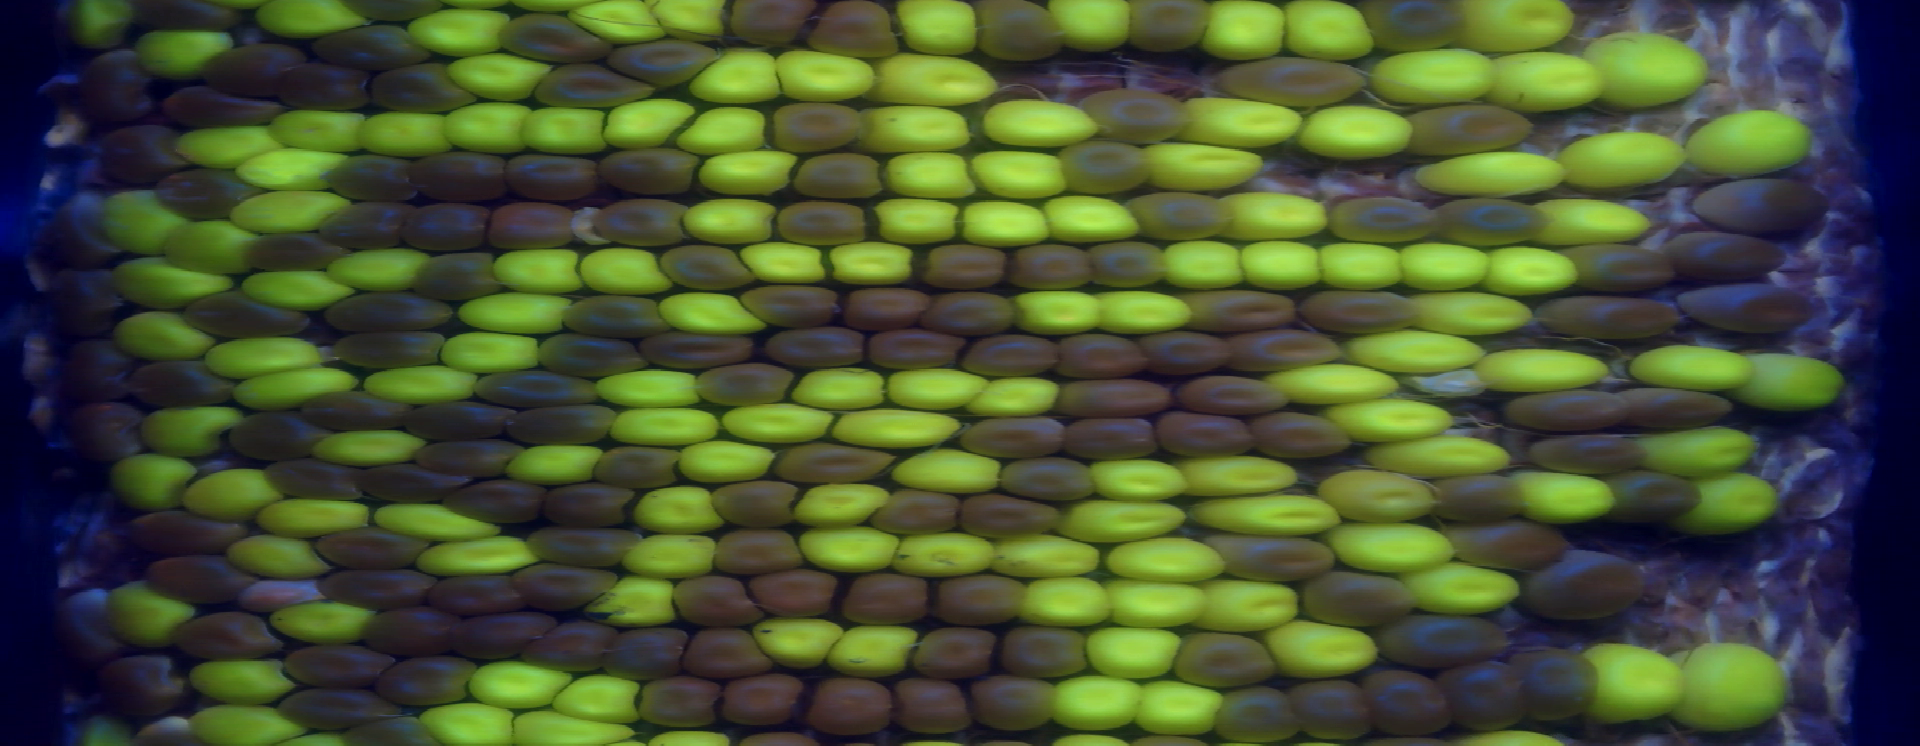fluorescent: (1664, 639, 1793, 737), (1679, 104, 1824, 181), (1587, 28, 1714, 104), (864, 47, 1007, 110), (1575, 644, 1691, 719), (1356, 48, 1502, 107), (1189, 573, 1314, 642), (1559, 131, 1695, 192), (1487, 48, 1608, 116), (100, 579, 203, 652), (1734, 352, 1847, 416), (1393, 562, 1520, 620), (1262, 617, 1382, 677), (965, 145, 1078, 208), (1276, 1, 1389, 62), (1412, 154, 1567, 198), (1329, 521, 1453, 575), (1351, 330, 1495, 375), (1462, 1, 1586, 54), (1194, 495, 1344, 538), (1473, 345, 1611, 392), (1354, 432, 1509, 474), (129, 24, 242, 81), (1142, 140, 1266, 191), (691, 49, 792, 111), (1302, 108, 1413, 164), (751, 611, 851, 674), (451, 289, 589, 334), (104, 254, 235, 301), (1534, 197, 1658, 247), (1633, 344, 1756, 394), (197, 326, 326, 374), (1509, 472, 1622, 526), (266, 594, 380, 648), (1411, 285, 1536, 334), (184, 462, 282, 524), (369, 496, 503, 541), (411, 9, 527, 61), (1682, 472, 1779, 534), (1194, 1, 1294, 61), (800, 521, 909, 576), (1188, 96, 1307, 146), (222, 184, 351, 229), (444, 47, 549, 103), (770, 48, 874, 104), (1098, 576, 1212, 627), (833, 404, 961, 450), (984, 532, 1109, 578), (984, 99, 1100, 149), (1269, 363, 1400, 407), (227, 527, 334, 579), (486, 243, 589, 298), (1084, 624, 1184, 680), (1131, 681, 1232, 737), (831, 619, 918, 684), (891, 446, 1007, 495), (595, 96, 699, 149), (324, 244, 436, 294), (189, 655, 300, 706), (251, 491, 381, 534), (347, 107, 449, 160), (855, 107, 973, 153), (1321, 472, 1434, 521), (883, 1, 987, 54), (107, 306, 216, 356), (140, 405, 249, 456), (1633, 431, 1761, 474), (1064, 499, 1191, 541), (1484, 244, 1584, 298), (238, 266, 364, 309), (1223, 191, 1333, 240), (313, 424, 432, 469), (623, 534, 725, 587), (1104, 537, 1226, 581), (179, 703, 311, 744), (1051, 673, 1141, 731), (1330, 394, 1453, 437), (438, 326, 544, 376), (516, 100, 616, 153), (655, 292, 771, 337), (680, 196, 790, 244), (251, 1, 373, 44), (553, 670, 647, 726), (636, 483, 729, 539), (1021, 575, 1120, 627), (588, 571, 678, 628), (225, 369, 362, 407), (1393, 241, 1496, 292), (1047, 1, 1136, 59), (887, 149, 980, 205), (891, 529, 996, 578), (100, 191, 184, 252), (1171, 456, 1300, 495), (1093, 289, 1196, 338), (1239, 240, 1329, 296), (1044, 195, 1150, 243), (718, 399, 831, 443), (169, 121, 283, 164), (1011, 289, 1111, 338), (680, 107, 781, 154), (365, 364, 481, 405), (264, 105, 371, 151), (680, 439, 780, 486), (104, 454, 195, 507), (879, 366, 993, 408), (468, 659, 569, 706), (1156, 243, 1251, 292), (443, 99, 531, 152), (699, 148, 801, 194), (965, 196, 1054, 247), (818, 244, 928, 285), (616, 404, 716, 450), (598, 371, 716, 409), (1318, 239, 1412, 287), (514, 708, 632, 746), (1089, 461, 1191, 503), (241, 152, 347, 194), (160, 228, 266, 269), (574, 1, 662, 48), (872, 198, 961, 244), (737, 240, 829, 284), (418, 541, 535, 576), (421, 702, 512, 746), (583, 247, 669, 294), (965, 372, 1060, 414), (796, 484, 890, 526), (58, 1, 140, 49), (500, 443, 604, 480), (648, 1, 733, 45), (795, 371, 887, 405), (80, 718, 140, 746)
nonfluorescent: (1206, 53, 1373, 110), (1690, 171, 1836, 234), (1518, 548, 1644, 615), (1654, 224, 1791, 284), (1679, 281, 1826, 334), (1614, 379, 1749, 435), (1389, 105, 1544, 153), (1206, 527, 1337, 582), (1536, 290, 1686, 338), (1067, 91, 1199, 145), (1435, 194, 1553, 252), (1511, 642, 1600, 719), (138, 549, 267, 601), (1373, 612, 1506, 663), (1433, 664, 1531, 731), (1294, 571, 1418, 624), (54, 581, 140, 657), (1599, 469, 1711, 527), (497, 11, 616, 65), (184, 289, 309, 339), (442, 609, 560, 661), (1122, 1, 1222, 62), (530, 64, 659, 111), (44, 256, 121, 336), (1300, 285, 1420, 336), (1044, 371, 1177, 416), (520, 614, 620, 674), (440, 479, 555, 530), (312, 198, 413, 257), (312, 524, 442, 570), (534, 330, 654, 379), (320, 149, 424, 205), (807, 1, 902, 61), (351, 456, 471, 503), (1358, 673, 1451, 734), (174, 608, 284, 659), (606, 38, 719, 88), (481, 201, 579, 258), (520, 524, 651, 567), (373, 650, 478, 704), (277, 684, 400, 729), (1120, 195, 1240, 241), (1449, 514, 1569, 561), (1329, 198, 1442, 247), (1172, 372, 1294, 418), (160, 82, 283, 127), (973, 1, 1067, 60), (562, 292, 676, 339), (149, 167, 252, 219), (299, 387, 415, 434), (320, 289, 449, 331), (200, 45, 310, 94), (804, 676, 894, 736), (1156, 404, 1258, 457), (92, 655, 193, 708), (1084, 240, 1180, 295), (688, 624, 779, 682), (309, 26, 436, 67), (965, 671, 1057, 729), (276, 60, 377, 111), (1210, 686, 1300, 744), (1176, 635, 1272, 688), (471, 364, 604, 403), (600, 622, 692, 679), (81, 53, 160, 118), (1370, 1, 1468, 54), (1289, 682, 1375, 742), (1060, 414, 1171, 461), (740, 283, 852, 328), (408, 252, 509, 303), (714, 526, 813, 577), (893, 676, 976, 737), (1000, 454, 1104, 503), (670, 571, 758, 628), (1523, 435, 1644, 477), (49, 196, 119, 268), (409, 149, 512, 198), (376, 64, 478, 113), (362, 609, 469, 655), (320, 565, 438, 606), (100, 125, 186, 183), (331, 323, 446, 366), (1058, 142, 1153, 194), (1056, 330, 1151, 381), (1000, 627, 1096, 679), (1513, 390, 1631, 431), (689, 361, 797, 407), (223, 409, 324, 457), (1176, 290, 1303, 328), (126, 511, 253, 549), (1569, 241, 1676, 285), (862, 327, 970, 371), (397, 202, 493, 251), (1434, 473, 1533, 521), (640, 331, 760, 370), (62, 334, 133, 401), (961, 416, 1074, 458), (869, 481, 965, 530), (411, 431, 512, 478), (782, 439, 891, 481), (934, 576, 1025, 627), (502, 403, 617, 443), (846, 573, 934, 626), (923, 289, 1022, 336), (509, 561, 620, 603), (958, 492, 1064, 535), (1139, 330, 1237, 376), (1258, 412, 1351, 461), (506, 152, 604, 198), (1233, 328, 1346, 369), (407, 403, 519, 443), (716, 670, 804, 722), (964, 334, 1071, 376), (1007, 239, 1093, 290), (129, 364, 233, 407), (916, 626, 1000, 679), (598, 198, 691, 246), (779, 198, 872, 246), (770, 100, 867, 146), (840, 284, 936, 330), (764, 325, 874, 364), (596, 149, 699, 191), (280, 648, 393, 686), (714, 478, 804, 524), (796, 152, 884, 200), (744, 570, 842, 612), (639, 676, 722, 726), (263, 457, 364, 499), (924, 244, 1011, 292), (76, 398, 138, 464), (433, 571, 531, 612), (542, 486, 639, 528), (598, 442, 683, 489), (660, 246, 756, 287), (244, 232, 343, 269), (120, 1, 238, 32), (725, 1, 811, 42), (331, 1, 448, 26), (345, 717, 441, 746), (131, 717, 204, 746)
